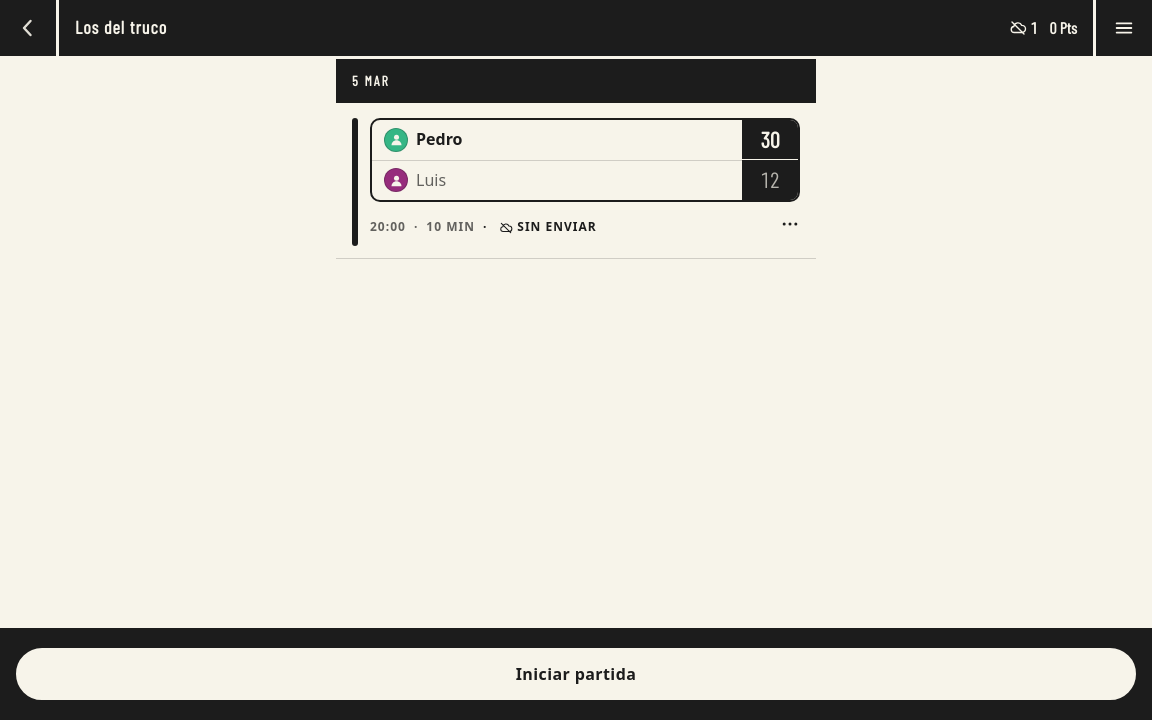
it: cancelar y restaurar partidas › una partida sin enviar se cancela sin conexión y queda marcada
Click the button named "Opciones de la partida": [790, 224] box [768,202,812,246]
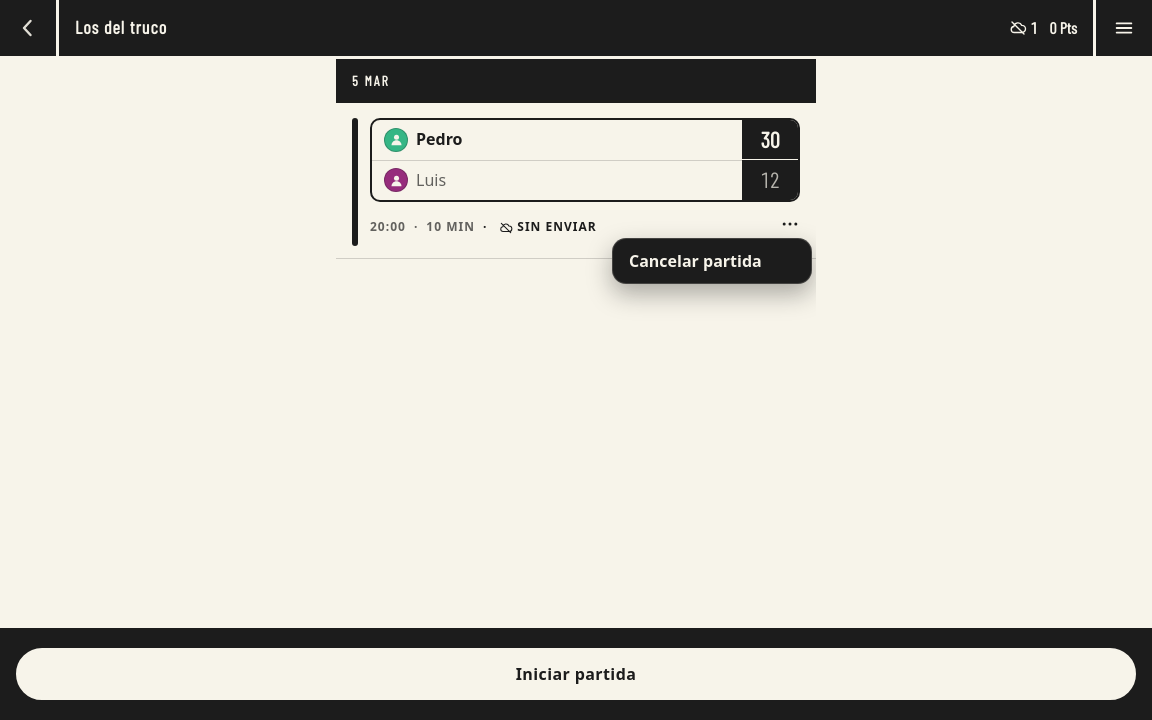
Click the menu item "Cancelar partida": [712, 261] box [613,239,811,283]
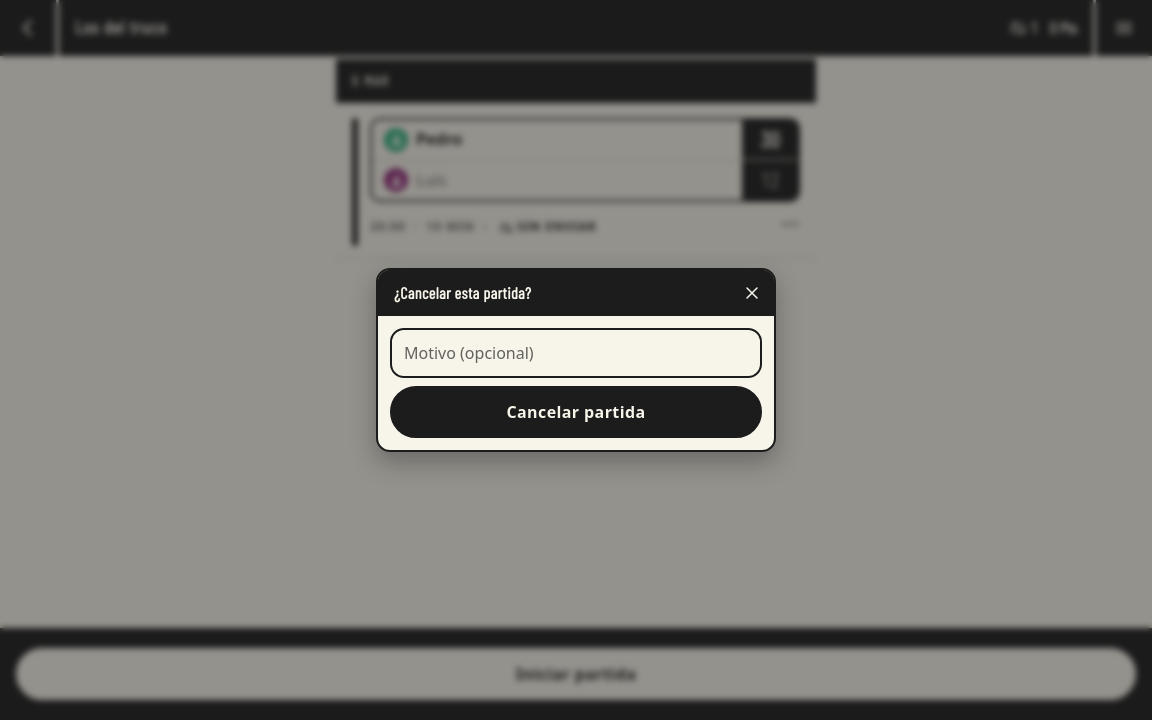
In the field labelled "Motivo (opcional)": [576, 353] box [390,328,762,378], type "Mal cargada"
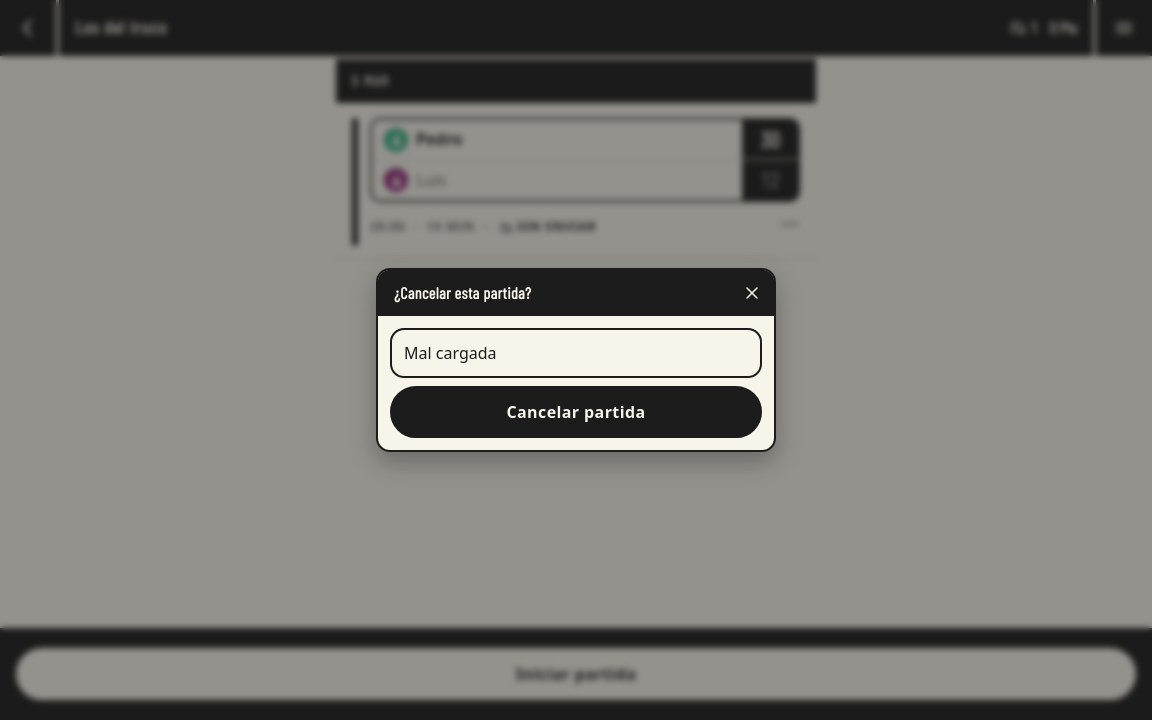
Click the button "Cancelar partida": [576, 412] box [390,386,762,438]
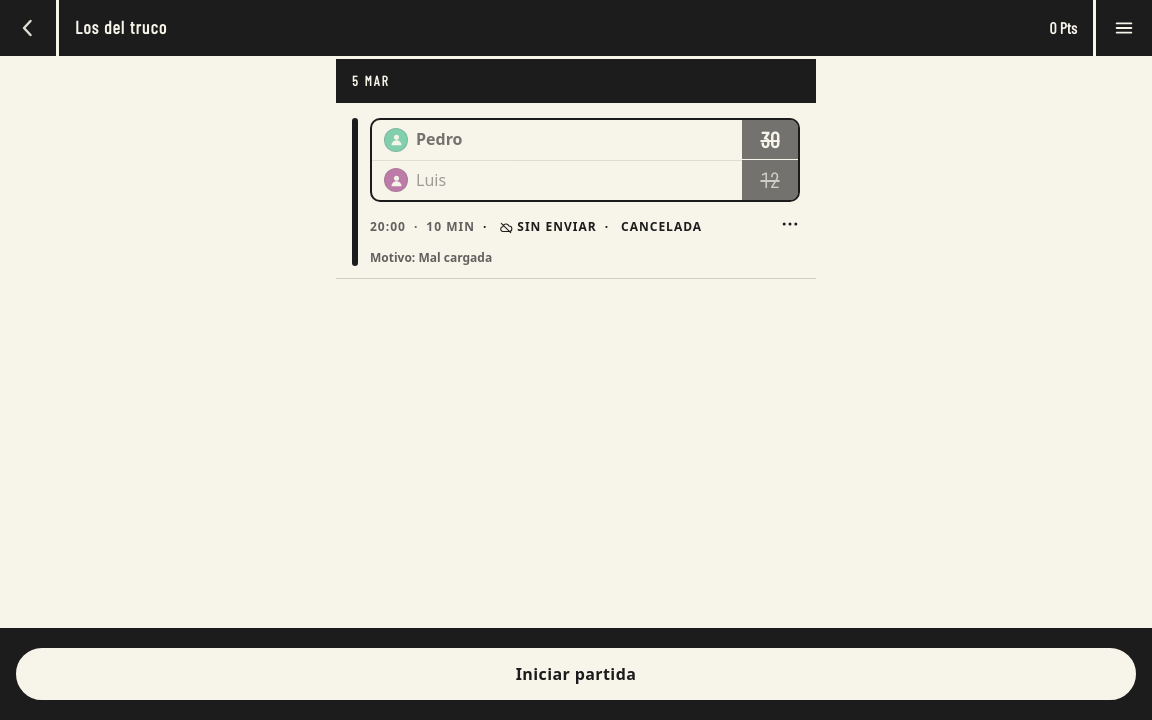
Expected: the text "Motivo: Mal cargada" is shown, [370,250,492,266]
Expected: the dialog is gone
